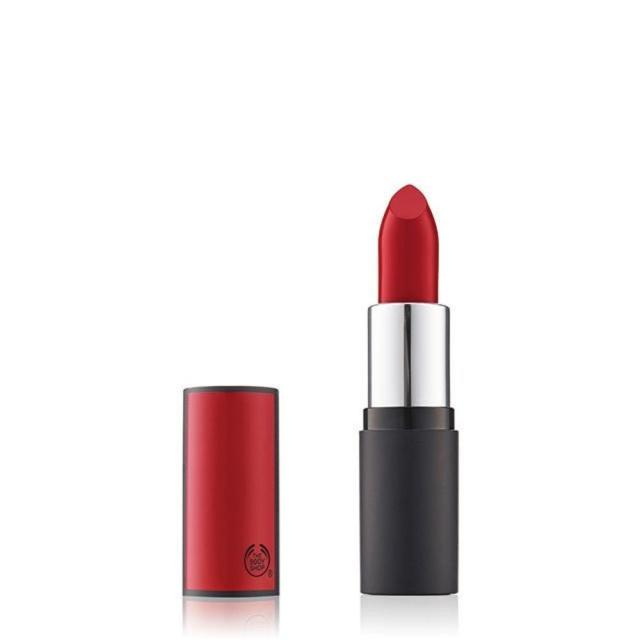lipstick: (327, 161, 490, 604)
